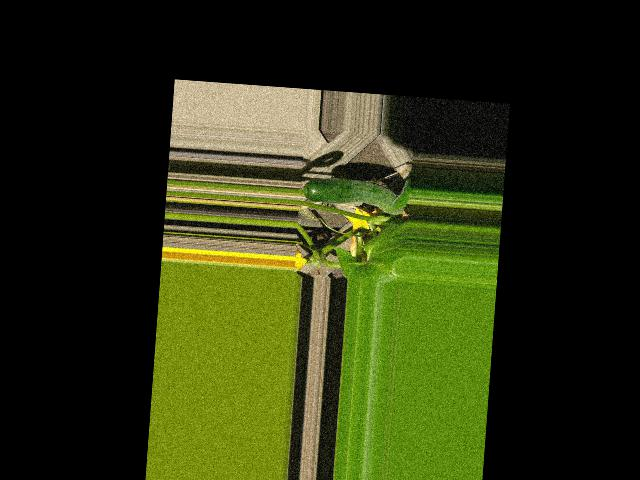cucumber: (303, 175, 411, 215)
